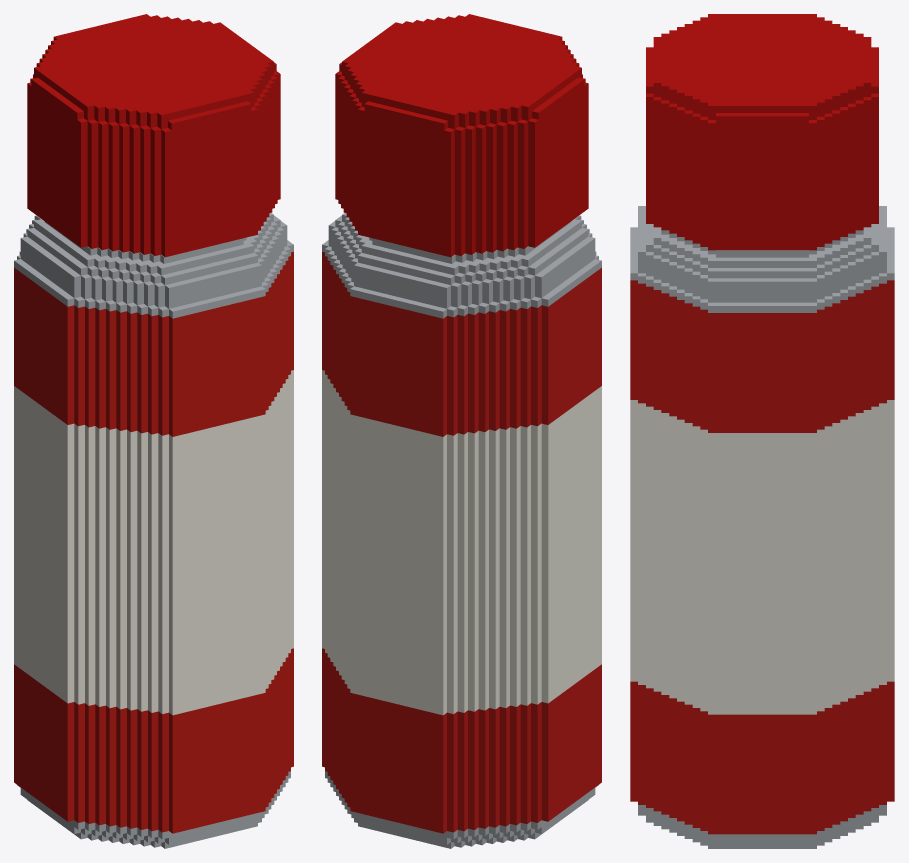
The model's file is spray_can.glb.
3 renders of one model, left to right at view 1: azimuth 30°, elevation 25°; view 2: azimuth 150°, elevation 25°; view 3: azimuth 270°, elevation 25°, orthographic.
Visible parts, largest first — view 1: spray_can:compound; view 2: spray_can:compound; view 3: spray_can:compound.
Boxes of the visible parts, x1,y1,x2,y2 form: spray_can:compound: [14, 14, 293, 848]; spray_can:compound: [322, 14, 601, 848]; spray_can:compound: [630, 14, 894, 848].
Bounding box in the file's own units: 0.068 × 0.21 × 0.068.
